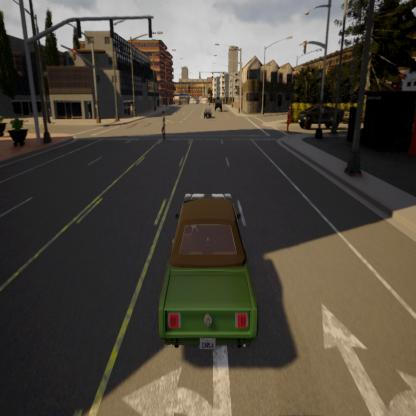Cars: (149, 178, 265, 355), (300, 96, 348, 138), (212, 88, 227, 118), (200, 99, 214, 130)
Pedestrian: (157, 101, 172, 162), (284, 91, 292, 147)
